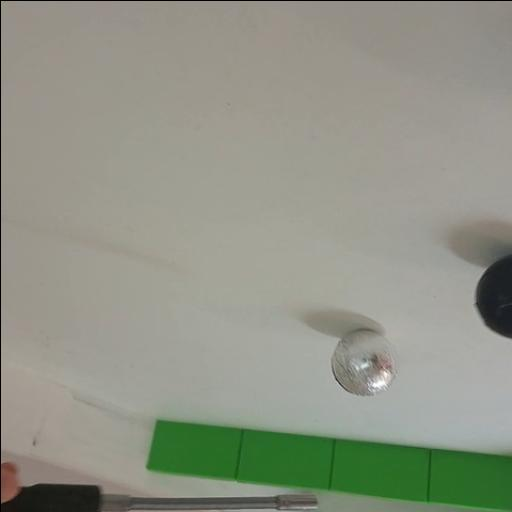alive: (330, 330, 398, 396)
dead: (472, 253, 512, 339)
